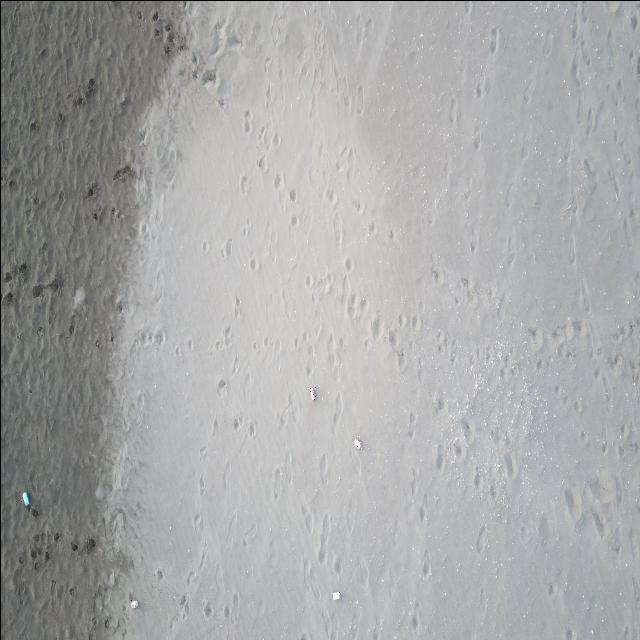Garbage: (22, 491, 30, 507), (308, 387, 316, 400), (352, 437, 360, 448), (129, 599, 138, 607), (332, 591, 340, 600)
